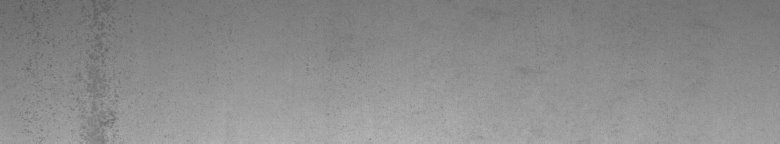ib: (17, 20, 122, 136)
